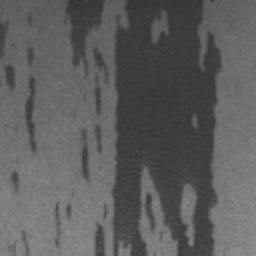Red iron sheet: (46, 0, 222, 256), (0, 20, 15, 90), (82, 125, 101, 178), (25, 76, 36, 151), (26, 11, 40, 26), (27, 47, 34, 66), (12, 173, 18, 183)
